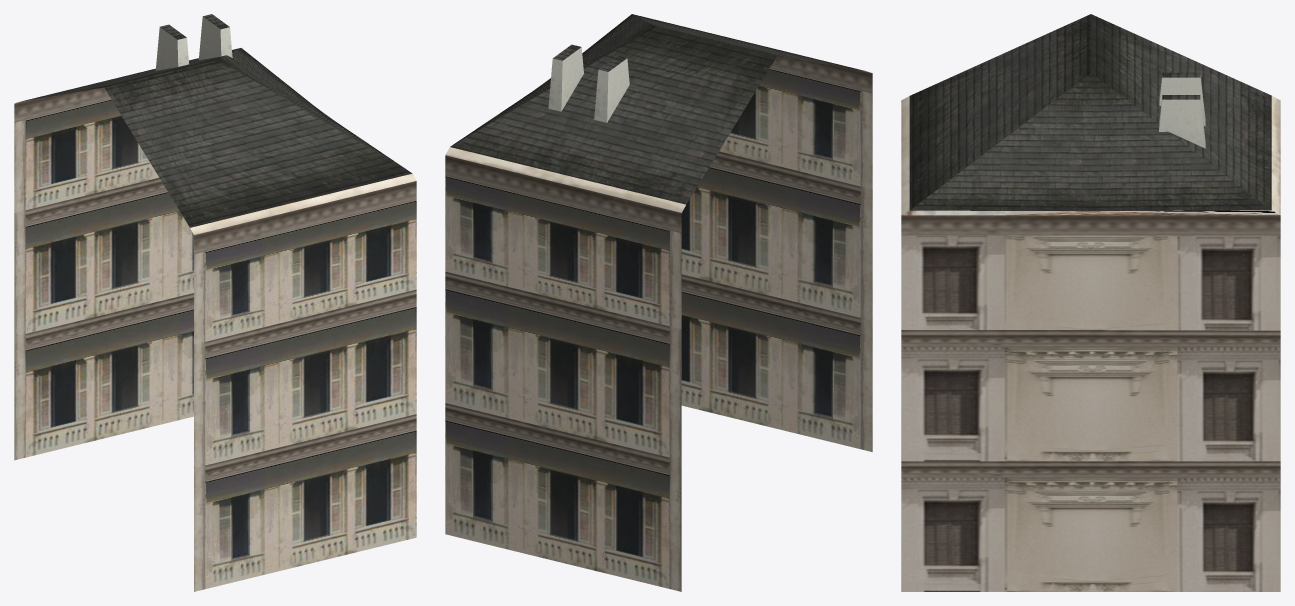
File: SM_Building_Rich_02b.fbx
3 views of the same model, side by side, from view 1: azimuth 30°, elevation 25°; view 2: azimuth 150°, elevation 25°; view 3: azimuth 270°, elevation 25° (orthographic). The views are drawn at different scales.
Parts seen in each view (by area): view 1: SM_Building_Rich_02b; view 2: SM_Building_Rich_02b; view 3: SM_Building_Rich_02b.
Boxes of the visible parts, x1=… form: SM_Building_Rich_02b: x1=14, y1=14, x2=416, y2=591; SM_Building_Rich_02b: x1=445, y1=14, x2=872, y2=591; SM_Building_Rich_02b: x1=901, y1=14, x2=1280, y2=591.
Size of the model in its own units: 10.06 by 18.93 by 14.06.
